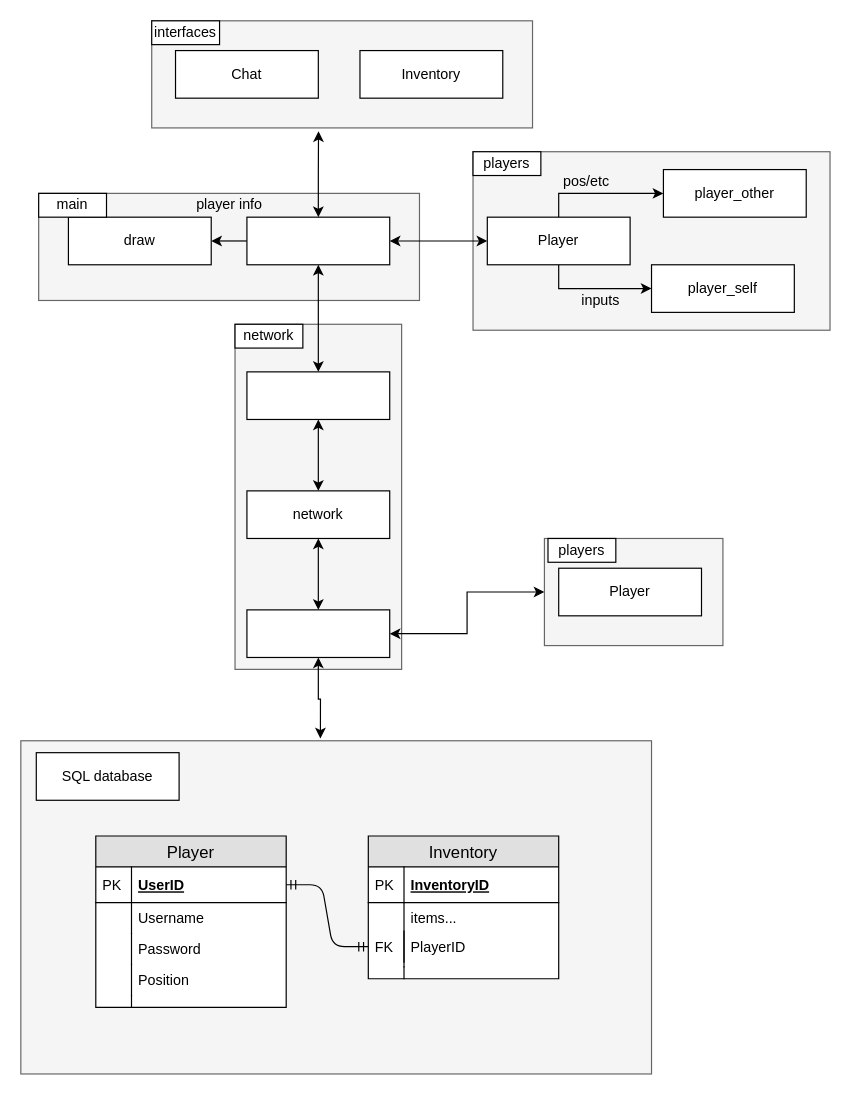
Some shapes in this 851 by 1095 pixel diagram are drawn without their labels. The shapes that lost their labels are listed below. From the top down, each one's centre as x and y in pixels, then its label:
point 318,240: world
point 318,395: Client
point 318,633: server
